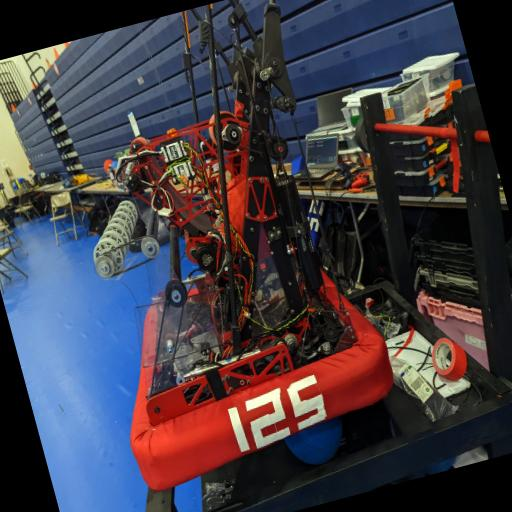robot: (48, 76, 406, 496)
